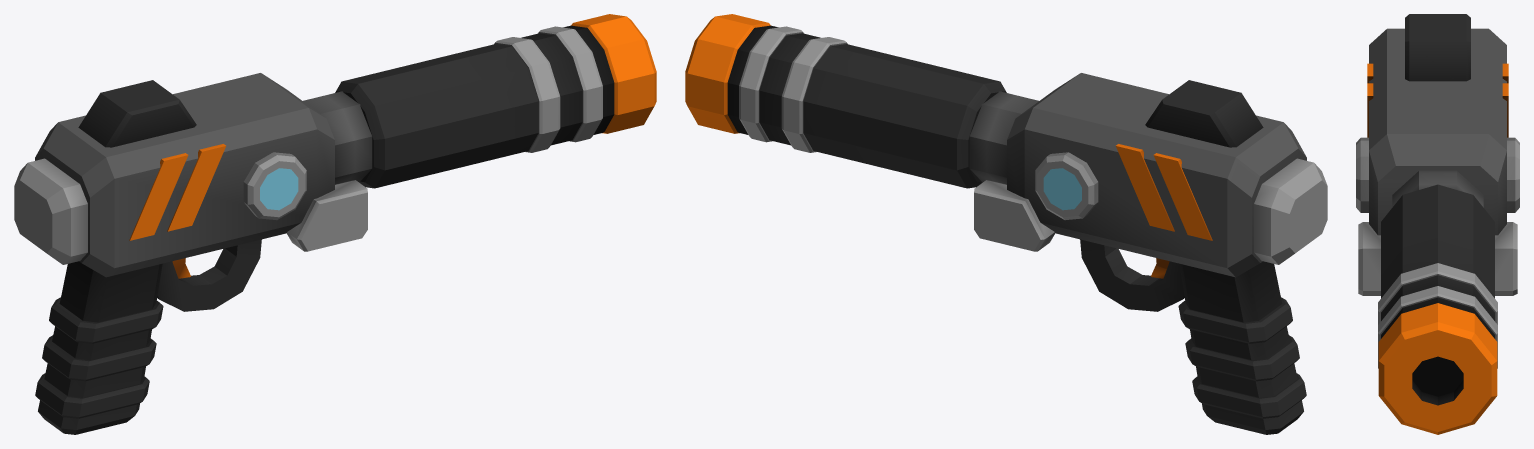
Rendered from pistol-sd.glb.
3 views of the same model, side by side, from view 1: azimuth 30°, elevation 25°; view 2: azimuth 150°, elevation 25°; view 3: azimuth 270°, elevation 25° (orthographic). The views are drawn at different scales.
Parts seen in each view (by area): view 1: pistol-sd; view 2: pistol-sd; view 3: pistol-sd.
Part boxes in pixels (x1,y1,x2,y2): pistol-sd: (14, 14, 656, 434); pistol-sd: (685, 14, 1327, 434); pistol-sd: (1356, 14, 1519, 434).
Size of the model in its own units: 0.49 by 0.242 by 0.109.
Materials: 1 (1 with a texture image).
